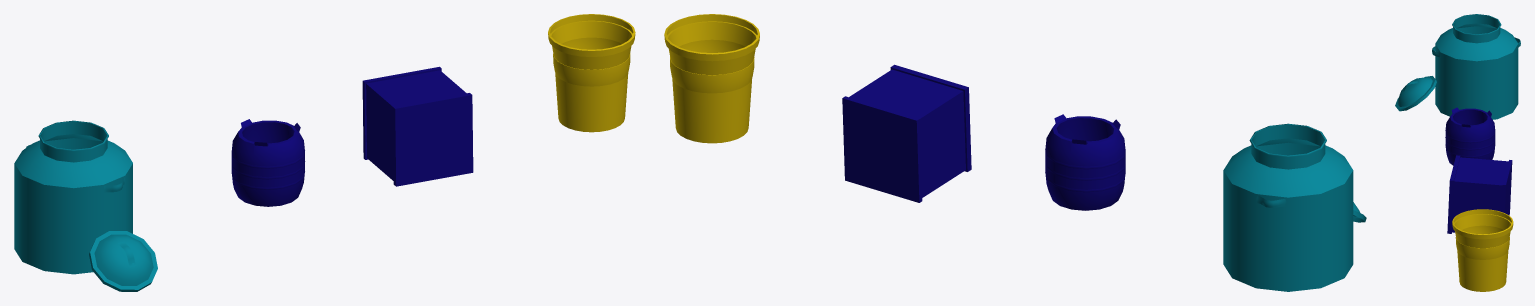
Rendered from objects-fbx-attach.FBX.
The picture shows the model from 3 angles, left to right: view 1: azimuth 30°, elevation 25°; view 2: azimuth 150°, elevation 25°; view 3: azimuth 270°, elevation 25°; orthographic projection. The views are drawn at different scales.
Visible parts, largest first — view 1: Object008; view 2: Object008; view 3: Object008.
Part boxes in pixels (x1=…): Object008: x1=14, y1=14, x2=635, y2=291; Object008: x1=664, y1=14, x2=1366, y2=291; Object008: x1=1395, y1=14, x2=1520, y2=291.
Bounding box in the file's own units: 5.53 × 1.01 × 1.41.
